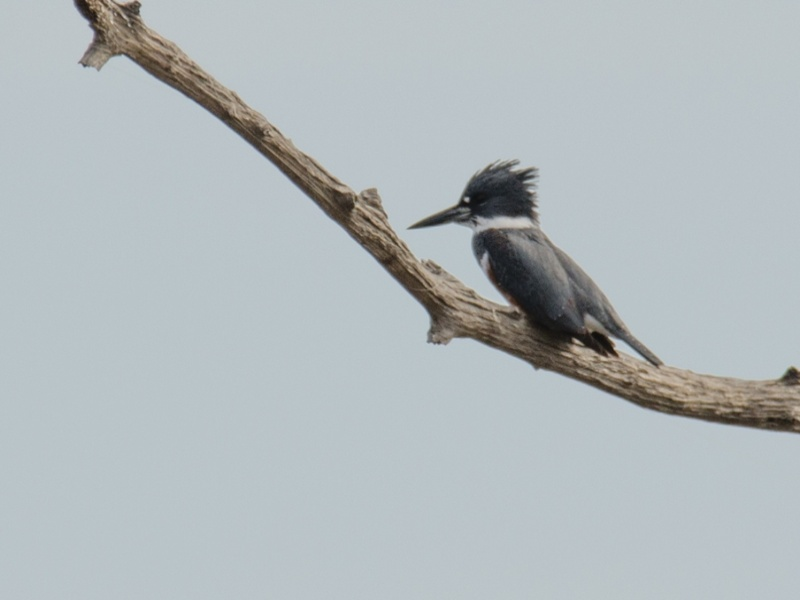kingfisher: (405, 158, 667, 371)
